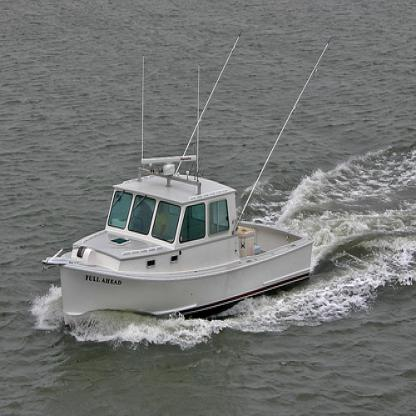boat: (39, 26, 331, 326)
